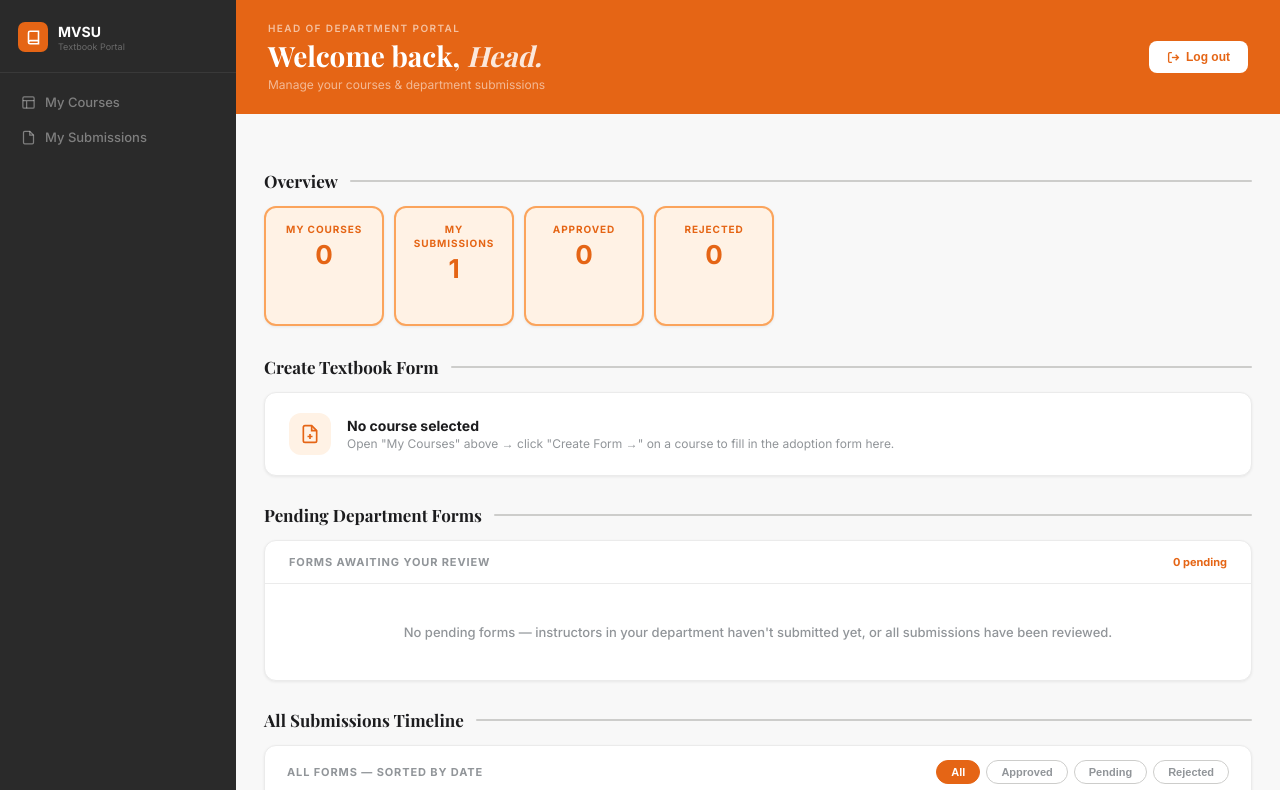
Test: HoD own Ordered submission remains in My Submissions
The width and height of the screenshot is (1280, 790).
Click the text "My Submissions" at (84, 137), box [21,129,147,145]
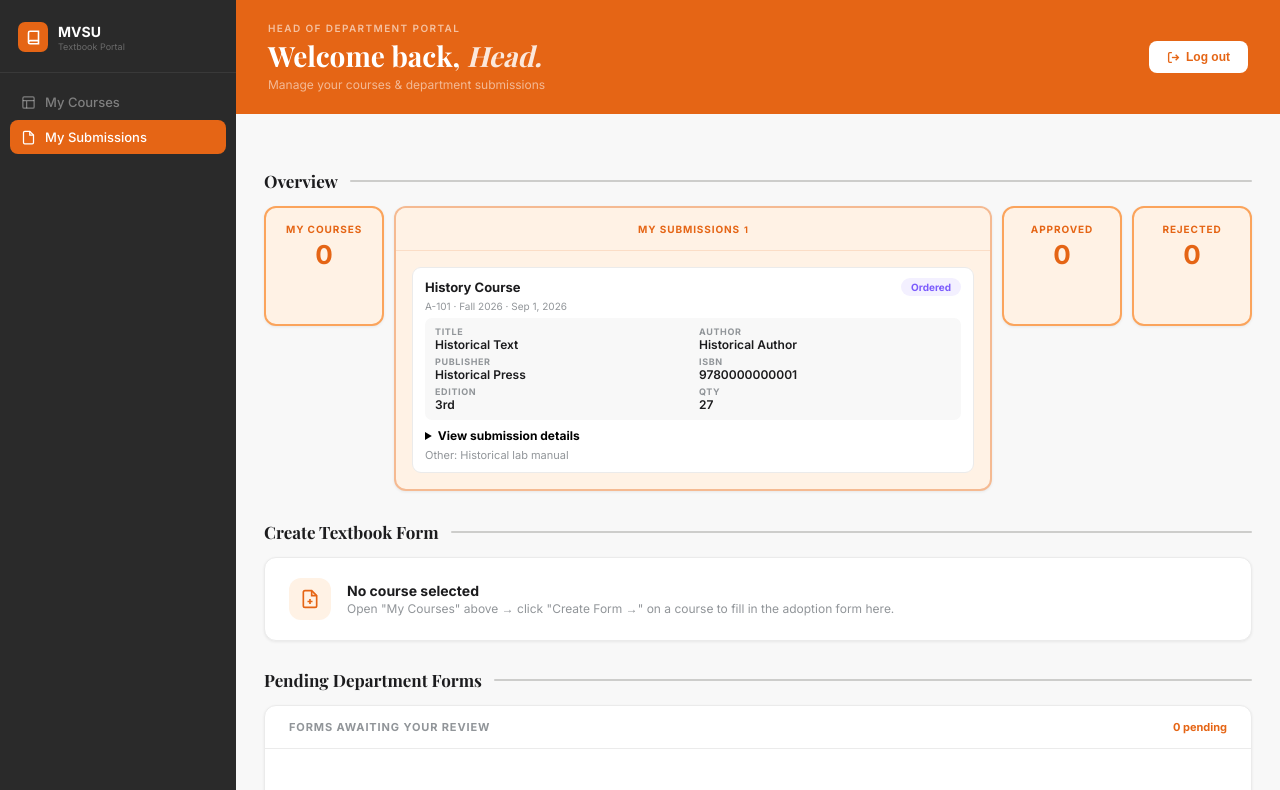
Check: the heading "View submission details" is shown, box [438,428,580,443]
